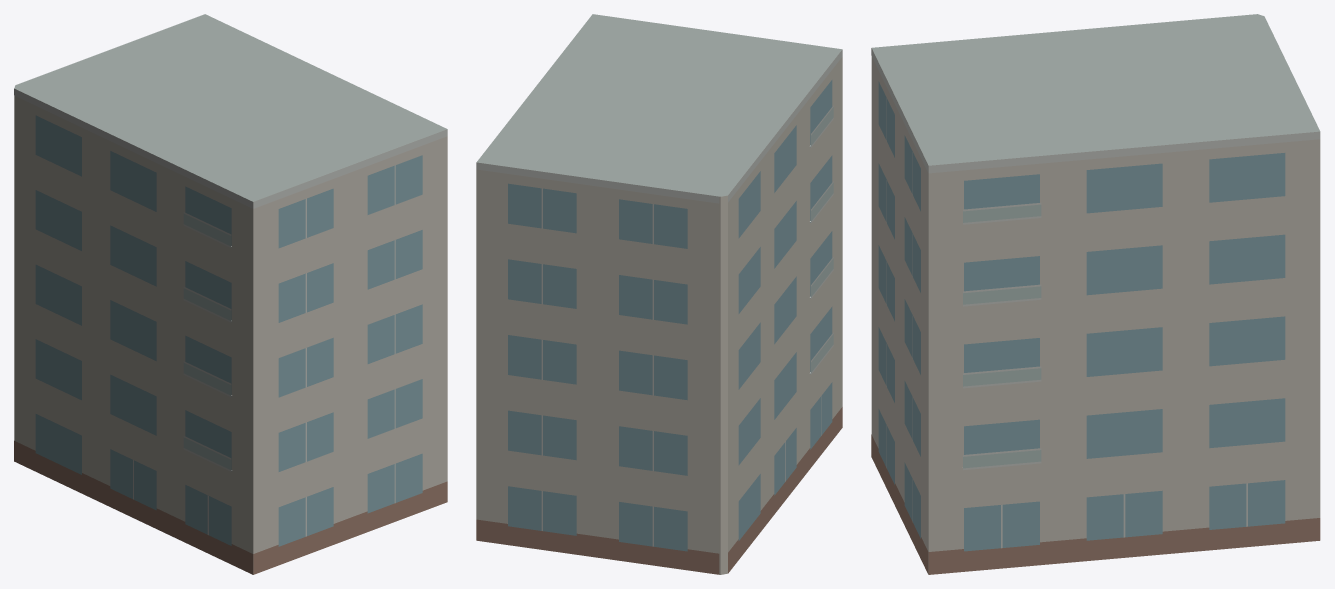
The model's file is survey-upis-32587561.glb.
3 renders of one model, left to right at view 1: azimuth 30°, elevation 25°; view 2: azimuth 150°, elevation 25°; view 3: azimuth 270°, elevation 25°, orthographic. The views are drawn at different scales.
Parts seen in each view (by area): view 1: survey-upis-32587561.tmp; view 2: survey-upis-32587561.tmp; view 3: survey-upis-32587561.tmp.
Part boxes in pixels (box(x1,y1,x2,y2)): survey-upis-32587561.tmp: box(14, 14, 447, 574); survey-upis-32587561.tmp: box(476, 14, 842, 574); survey-upis-32587561.tmp: box(871, 14, 1320, 574).
Bounding box in the file's own units: 10.35 × 13 × 12.94.
